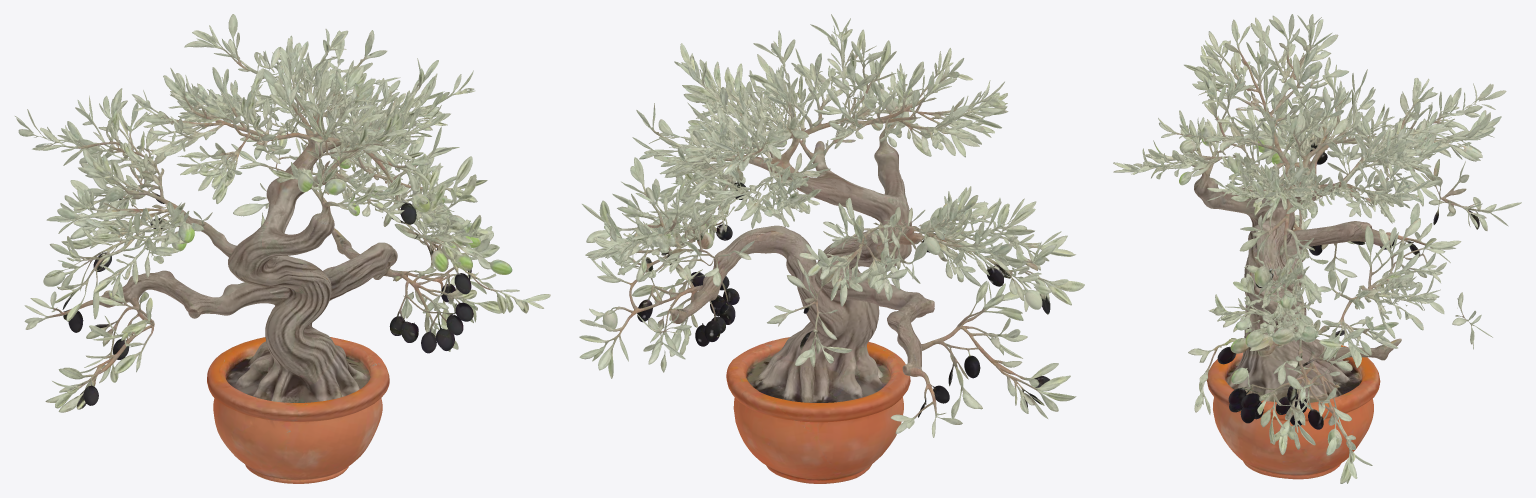
The model's file is burhan.glb.
3 views of the same model, side by side, from view 1: azimuth 30°, elevation 25°; view 2: azimuth 150°, elevation 25°; view 3: azimuth 270°, elevation 25° (orthographic). The views are drawn at different scales.
Size of the model in its own units: 1.9 by 1.63 by 1.52.
1 material, 1 textured.
